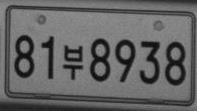1: (38, 34, 60, 79)
3: (139, 40, 161, 84)
8: (164, 39, 187, 85), (13, 33, 35, 79), (89, 37, 111, 82)
9: (113, 37, 137, 83)
부: (62, 44, 84, 80)
